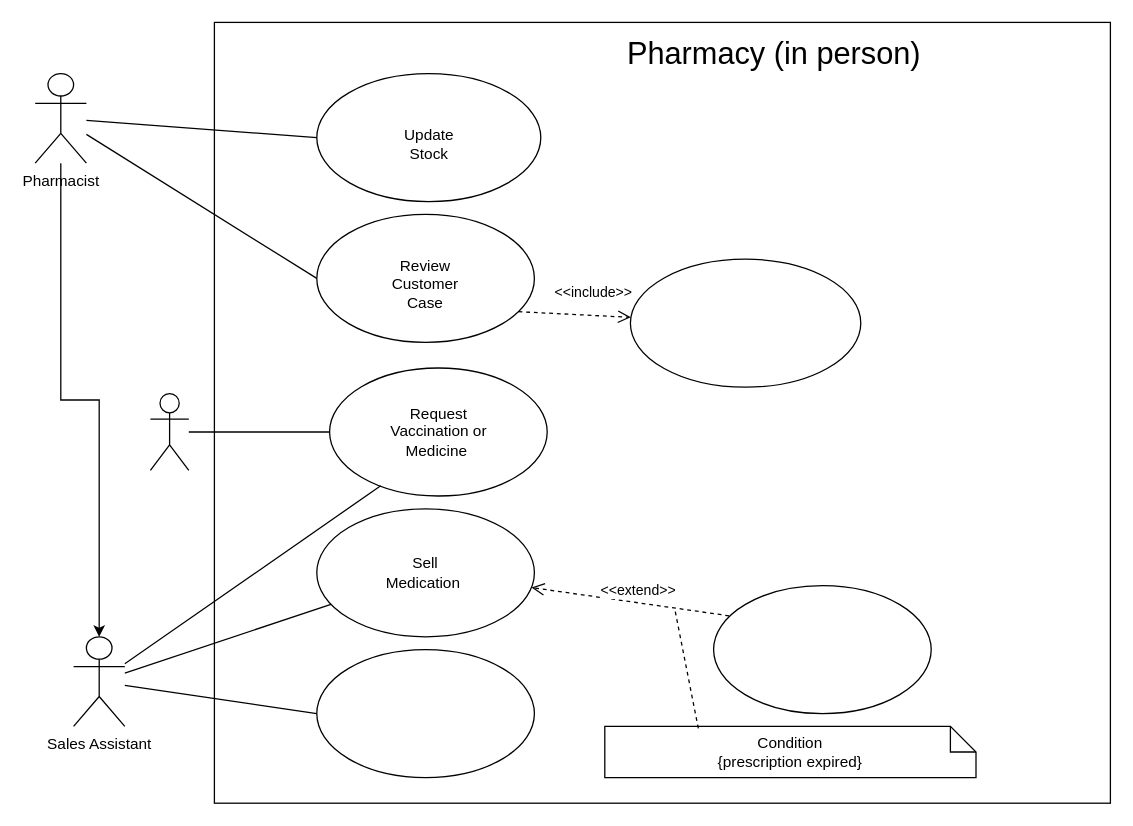
Some shapes in this 1133 by 826 pixel diagram are drawn without their labels. Here are the shapes that lost their labels. From the top down, the centre of each, then its label:
the point at 745,322: Issue New Prescription
the point at 169,431: Customer
the point at 821,649: Deny Prescription and Book Appointment
the point at 425,713: Book Vaccination
